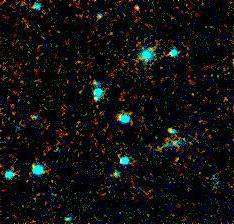star: (124, 0, 154, 21)
